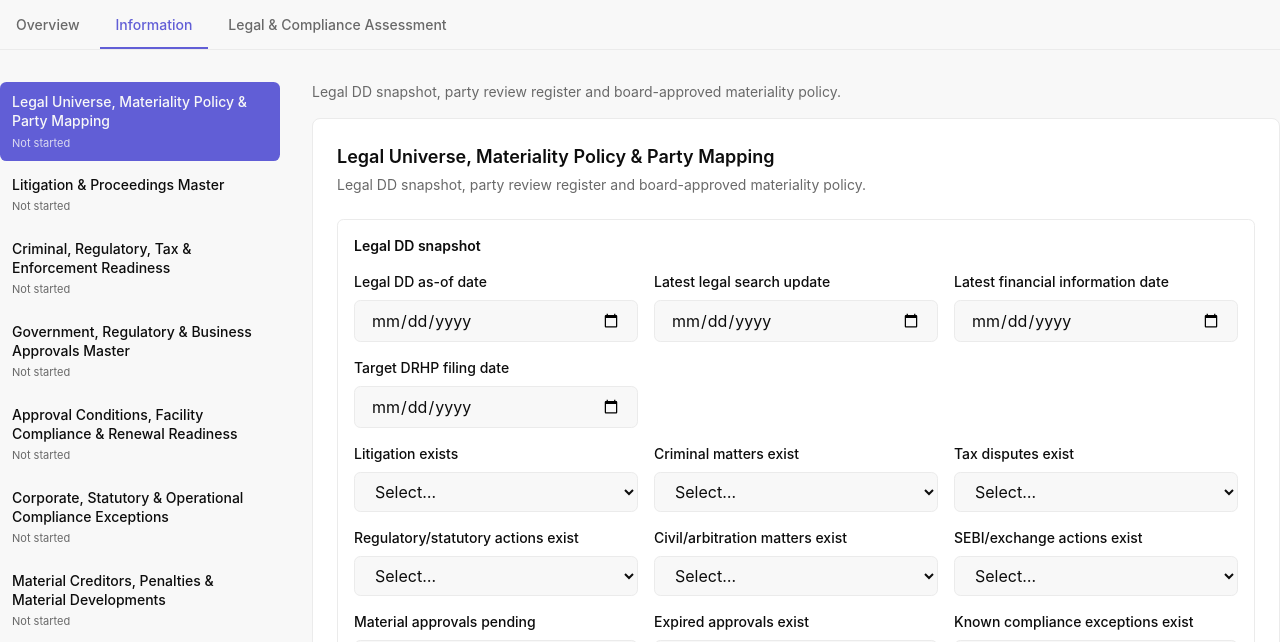
Scenario: Litigation, Approvals & Compliance workstream UI (LAC2 API-backed) › discards drafts back to the persisted baseline
Click the tab "Information" at (154, 26), box [100, 3, 208, 49]
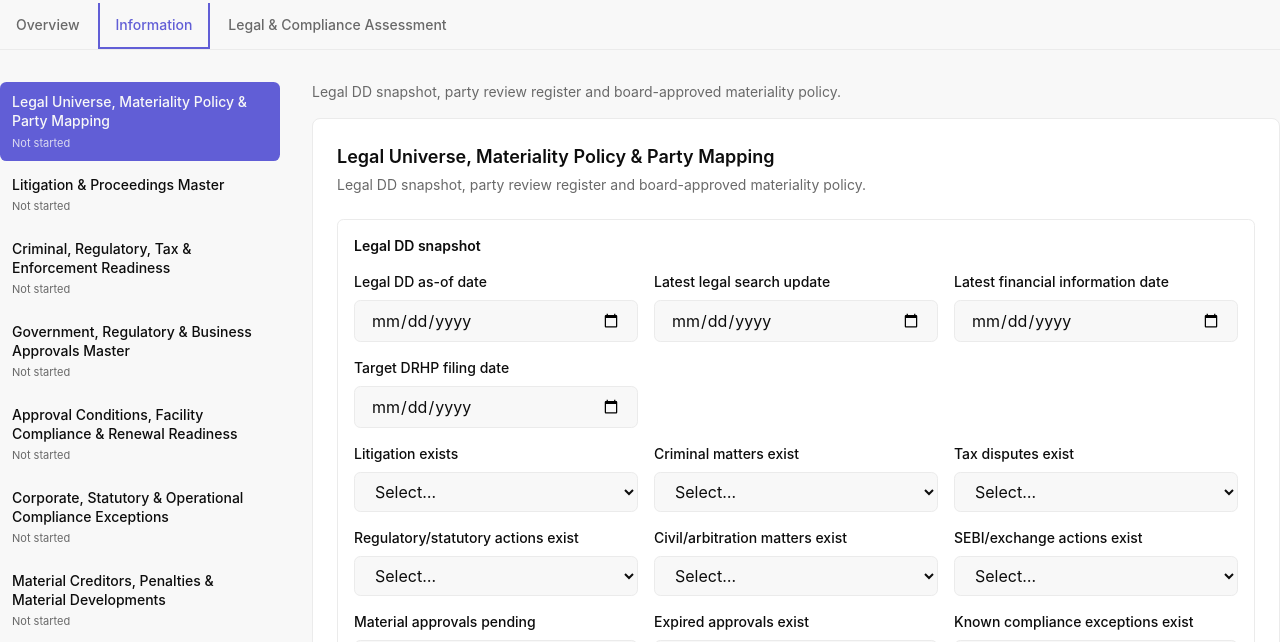
Type "2025-03-31" into the date field labelled "Legal DD as-of date" at (496, 321), box [354, 300, 638, 342]
(page scrolled)
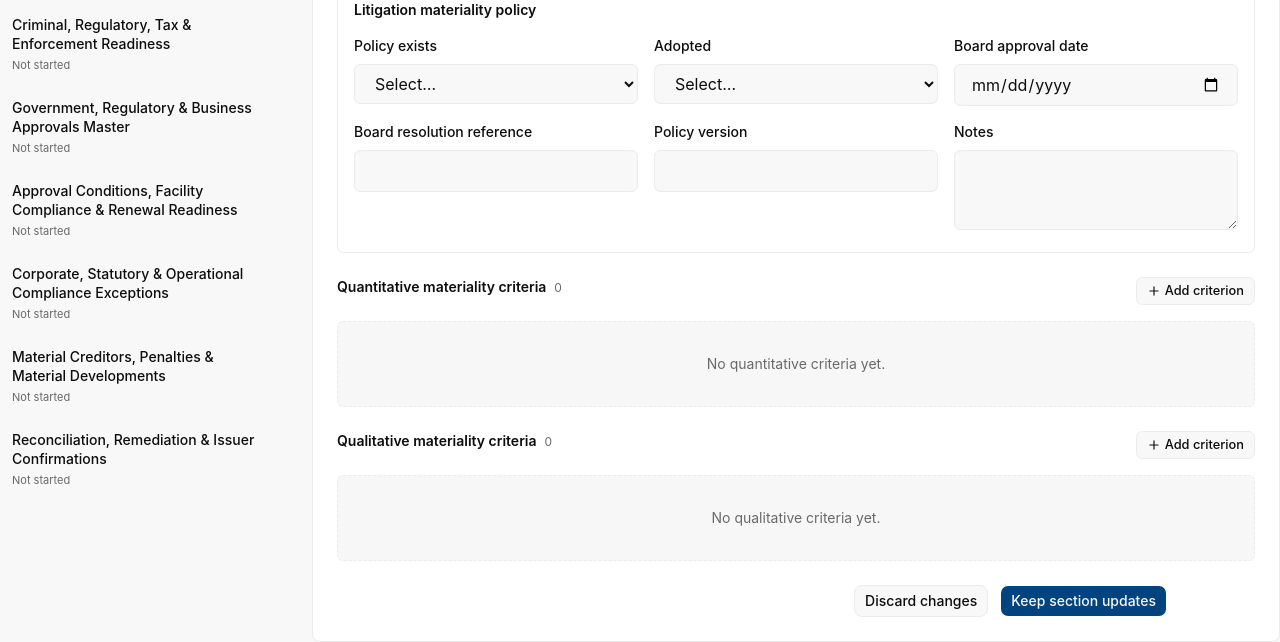
Click the button "Discard changes" at (921, 601), box [854, 585, 988, 617]
(page scrolled)
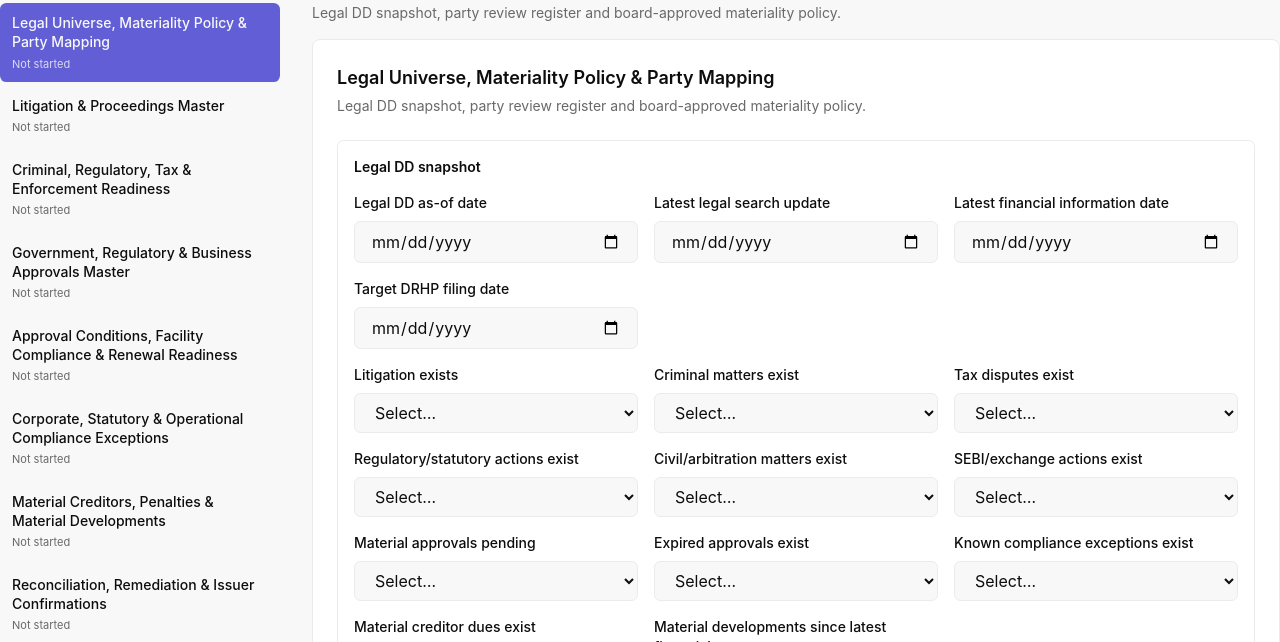
expect the date field labelled "Legal DD as-of date" is empty: met, box [354, 221, 638, 263]
